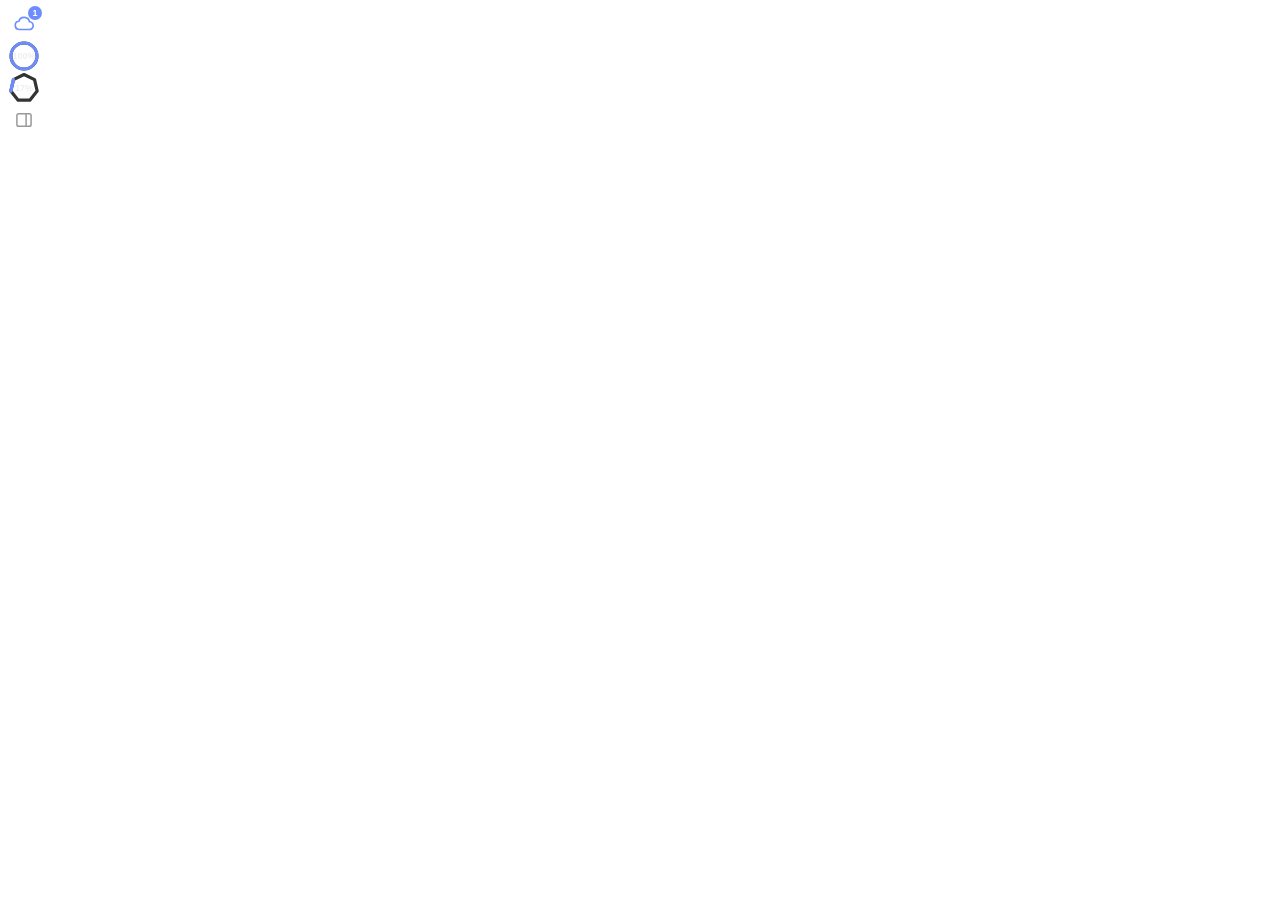
Scenario: правая панель (BACKLOG 6.2) › клик по спидометру закрывает панель и открывает сводку
Click the button with test id "panel-open" at point(24, 120), box [8,104,40,136]
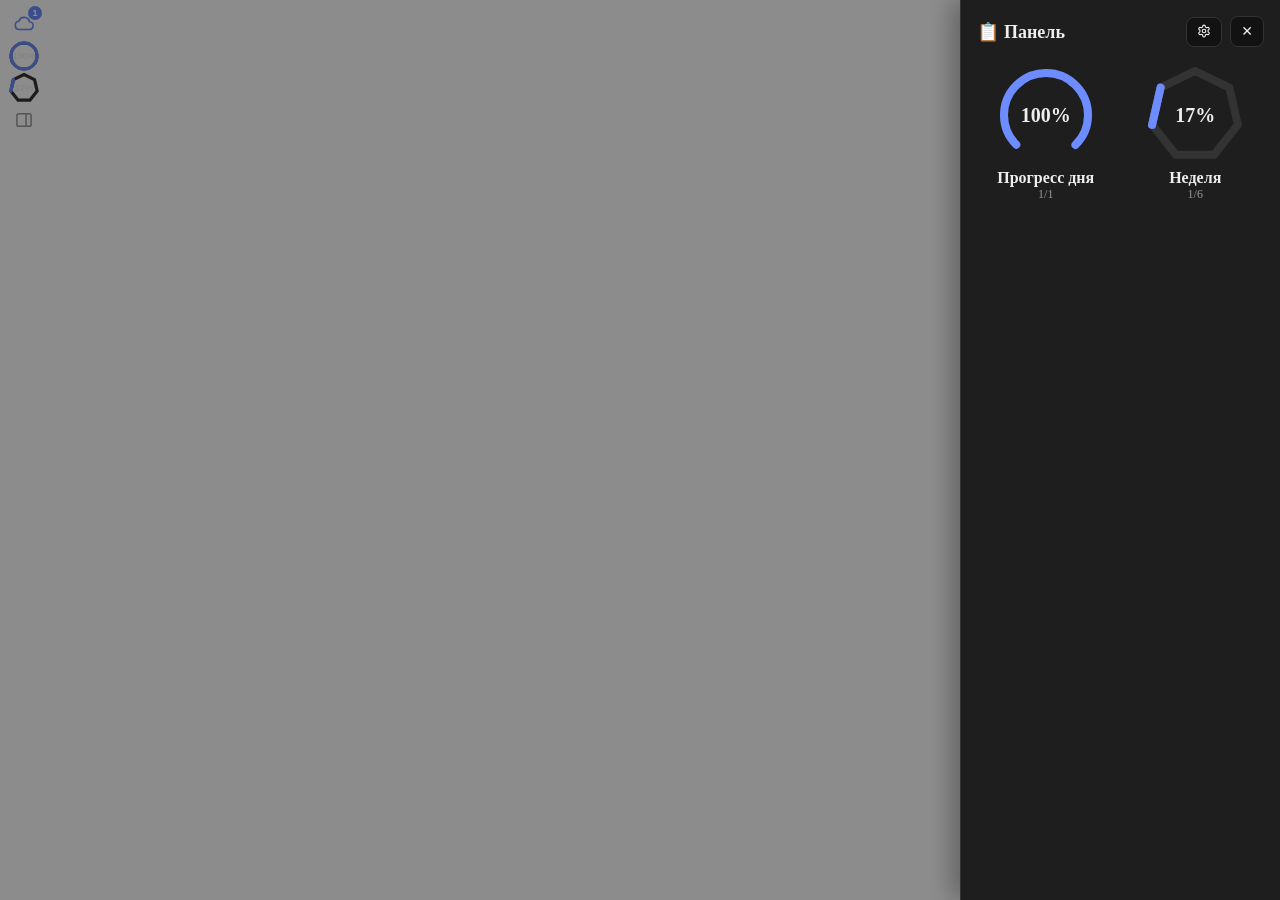
Click the button with class "gh-gauge" showing "100% Прогресс дня 1/1" at point(1046, 132), box [990,59,1102,206]
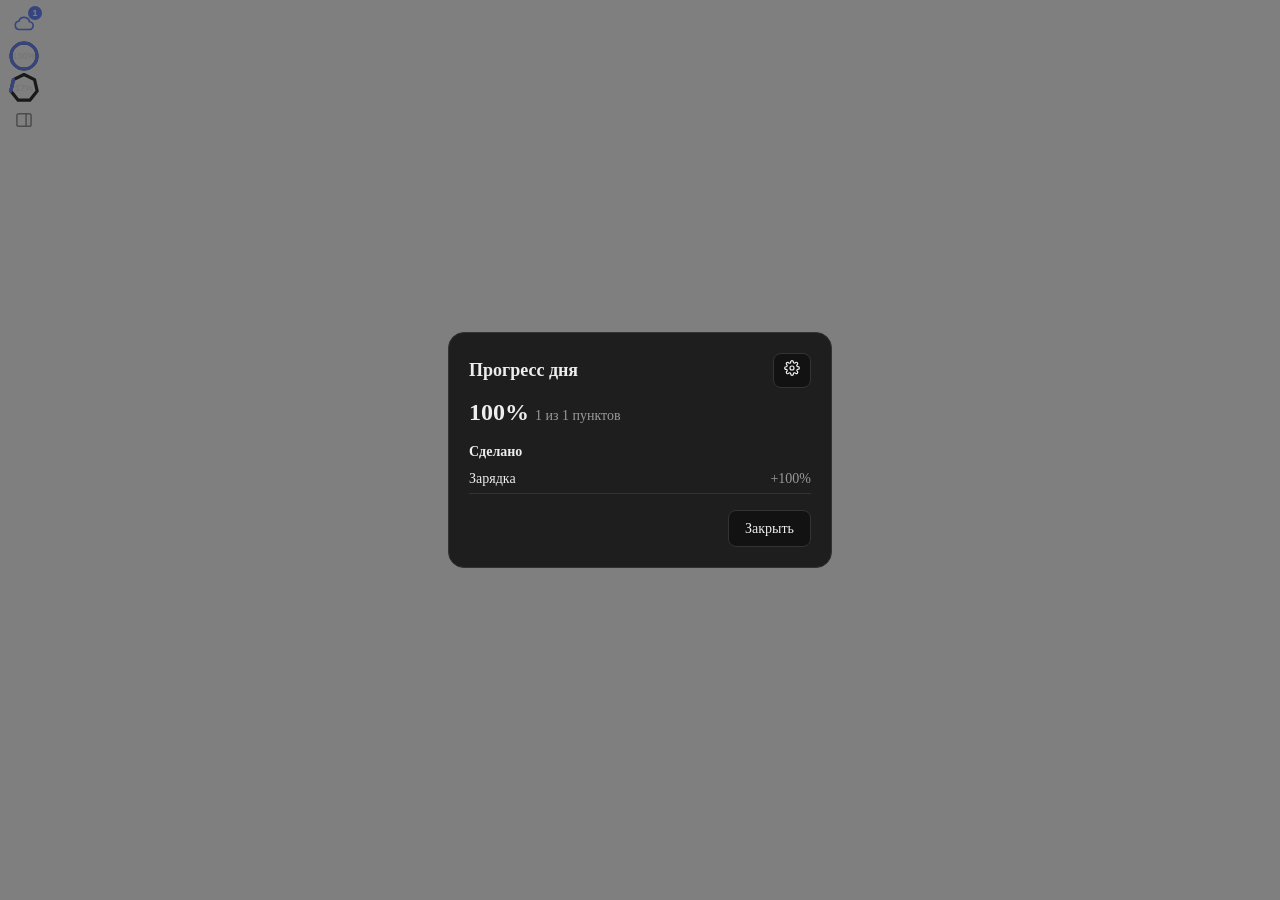
Expected: the element with test id "summary-modal" is shown, [448,332,832,568]
